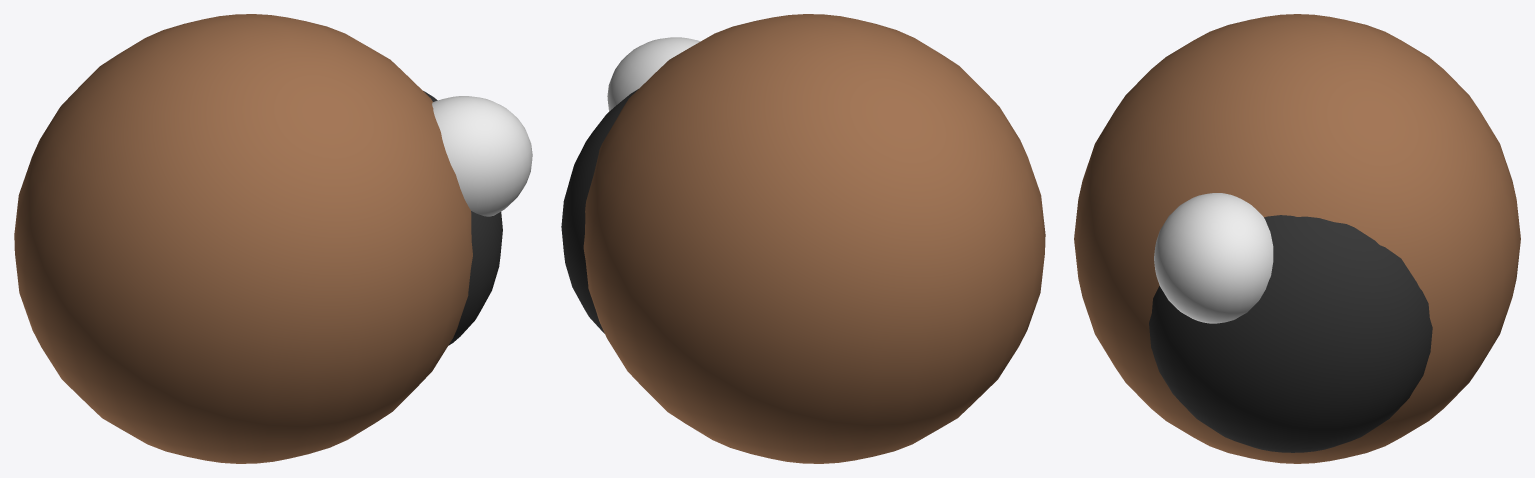
Rendered from schmitty big eye.dae.
3 views of the same model, side by side, from view 1: azimuth 30°, elevation 25°; view 2: azimuth 150°, elevation 25°; view 3: azimuth 270°, elevation 25° (orthographic).
Parts seen in each view (by area): view 1: Sphere, Sphere_002, Sphere_001; view 2: Sphere, Sphere_001, Sphere_002; view 3: Sphere, Sphere_001, Sphere_002.
Part boxes in pixels (x1,y1,x2,y2): Sphere: (14, 14, 472, 463); Sphere_002: (432, 96, 532, 216); Sphere_001: (423, 91, 502, 345); Sphere: (583, 14, 1045, 463); Sphere_001: (561, 89, 638, 333); Sphere_002: (607, 37, 700, 111); Sphere: (1074, 14, 1520, 463); Sphere_001: (1149, 215, 1432, 452); Sphere_002: (1154, 193, 1273, 323).
Size of the model in its own units: 1.91 by 1.68 by 1.68.
